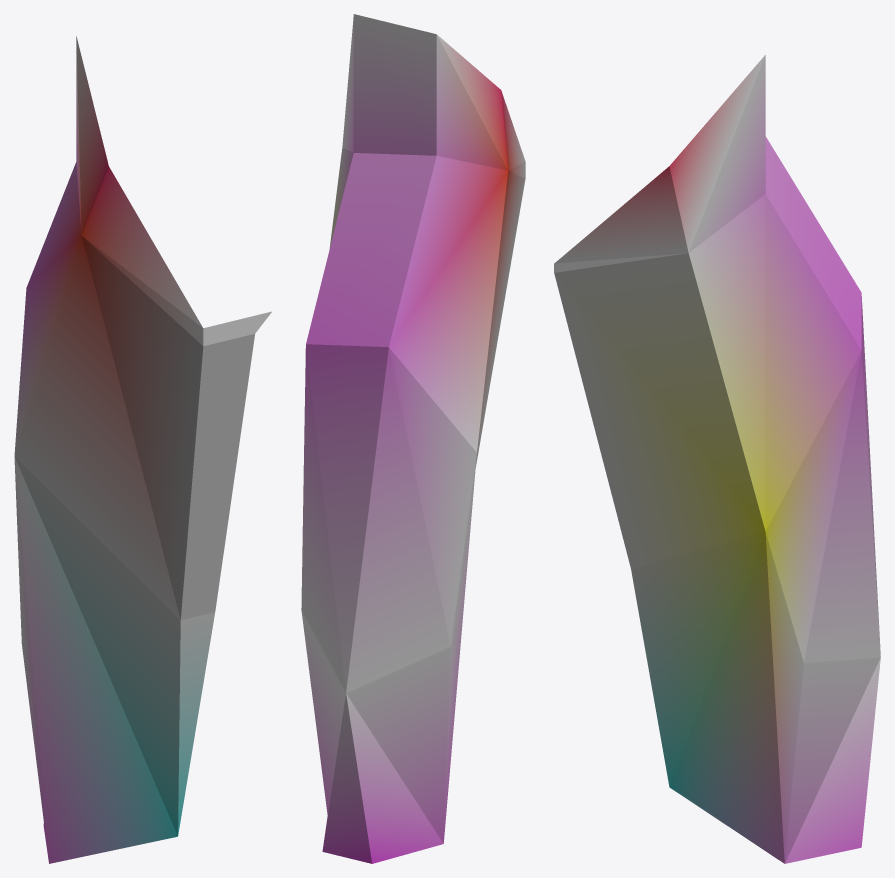
The picture shows the model from 3 angles, left to right: view 1: azimuth 30°, elevation 25°; view 2: azimuth 150°, elevation 25°; view 3: azimuth 270°, elevation 25°; orthographic projection. The views are drawn at different scales.
Visible parts, largest first — view 1: model_11CF; view 2: model_11CF; view 3: model_11CF.
Part boxes in pixels (<box>): model_11CF: <box>14,36,271,863</box>; model_11CF: <box>301,14,525,863</box>; model_11CF: <box>554,55,880,863</box>.
Bounding box in the file's own units: 11 × 46 × 17.
